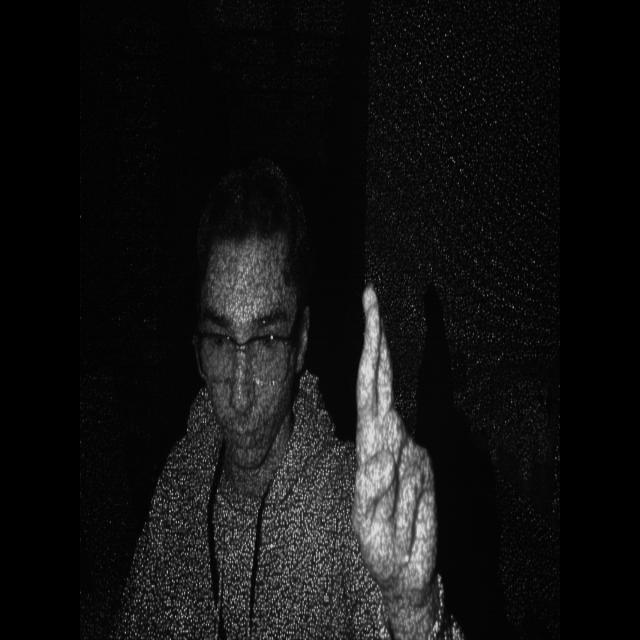R: (344, 264, 445, 602)
